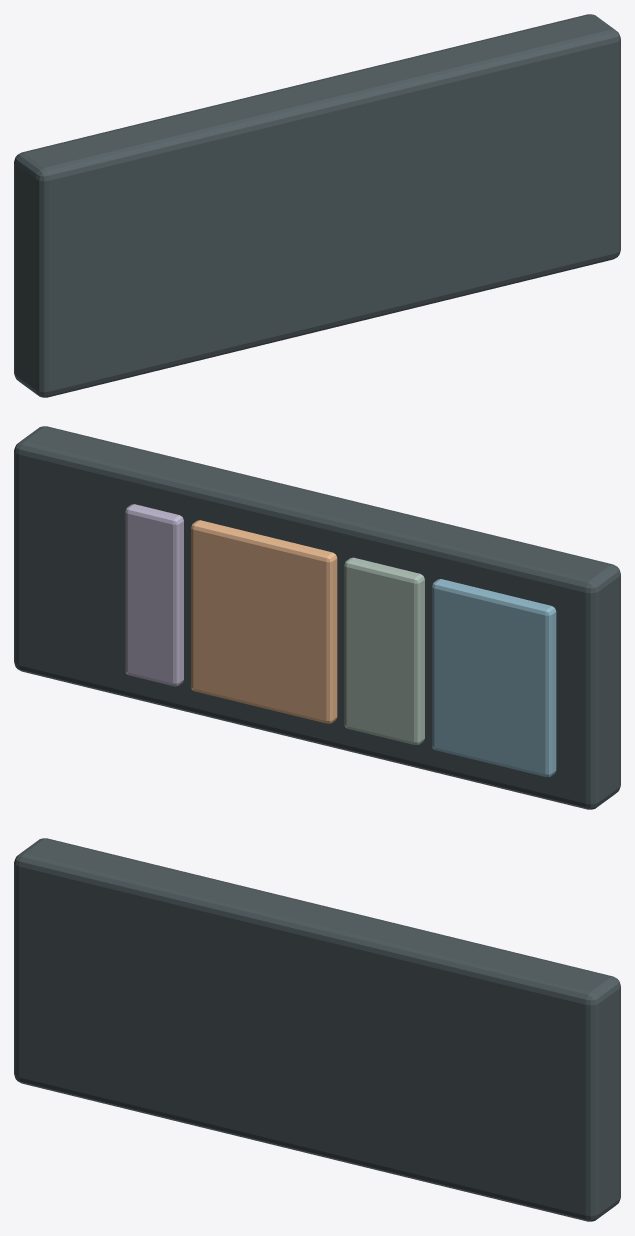
Rendered from nest.glb.
3 views of the same model, one above another, from view 1: azimuth 30°, elevation 25°; view 2: azimuth 150°, elevation 25°; view 3: azimuth 330°, elevation 25° (orthographic).
Visible parts, largest first — view 1: nest_slab; view 2: nest_slab, nest_share_2, nest_share_0, nest_share_1, nest_share_3; view 3: nest_slab.
Boxes of the visible parts, x1,y1,x2,y2 form: nest_slab: [14, 14, 620, 397]; nest_slab: [14, 426, 620, 809]; nest_share_2: [191, 520, 337, 723]; nest_share_0: [432, 579, 556, 776]; nest_share_1: [344, 557, 424, 744]; nest_share_3: [125, 504, 183, 686]; nest_slab: [14, 838, 620, 1221].
Size of the model in its own units: 4 by 1.5 by 0.44.
